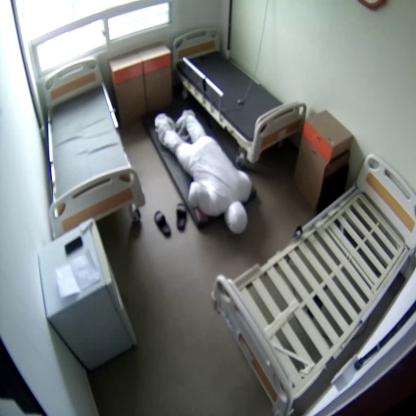Person: (154, 110, 252, 233)
